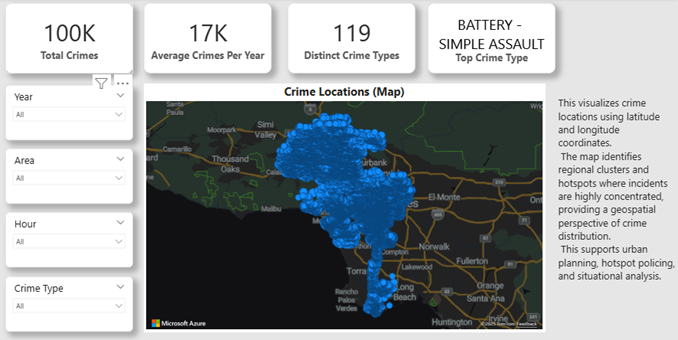

This screenshot's page, from the dashboard's own definition file:
{"tool":"powerbi","page":{"name":"Geographic Crime Map","canvas":[1280,720],"ordinal":4},"visuals":[{"type":"slicer","fields":{"Values":["cleaned_crime_data.Occ_Year"]},"box":[13.8,162.6,240.4,103.8],"z":0},{"type":"slicer","fields":{"Values":["cleaned_crime_data.AREA NAME"]},"box":[13.8,282.5,240.4,103.8],"z":1000},{"type":"slicer","fields":{"Values":["cleaned_crime_data.Crm Cd Desc"]},"box":[13.8,522.4,240.4,103.8],"z":2000},{"type":"slicer","fields":{"Values":["cleaned_crime_data.Hour"]},"box":[13.8,402.5,240.4,103.8],"z":3000},{"type":"card","fields":{"Values":["cleaned_crime_data.Total Crimes"]},"box":[14.4,8.6,240.5,132.5],"z":4000},{"type":"card","fields":{"Values":["cleaned_crime_data.Average Crimes Per Year"]},"box":[275,8.6,240.5,132.5],"z":5000},{"type":"card","fields":{"Values":["cleaned_crime_data.Top Crime Type"]},"box":[809.3,8.6,240.5,132.5],"z":6000},{"type":"card","fields":{"Values":["cleaned_crime_data.Distinct Crime Types"]},"box":[545.8,8.6,240.5,132.5],"z":7000},{"type":"azureMap","title":"Crime Locations (Map)","fields":{"Y":["cleaned_crime_data.LAT"],"X":["cleaned_crime_data.LON"],"Size":["cleaned_crime_data.Total Crimes"]},"box":[275,159.8,754.6,466.6],"z":8000},{"type":"textbox","box":[1049.6,178.6,230.4,445],"z":9000}]}

Visuals, with their boxes on the page's 1280x720 design canvas (x1, y1, x2, y2). These are canvas units, not pixel positions in the 678x340 screenshot, which may show the page scaled, cropped or inside an application window:
slicer - cleaned_crime_data.Occ_Year: (14, 163, 254, 266)
slicer - cleaned_crime_data.AREA NAME: (14, 282, 254, 386)
slicer - cleaned_crime_data.Crm Cd Desc: (14, 522, 254, 626)
slicer - cleaned_crime_data.Hour: (14, 402, 254, 506)
card - cleaned_crime_data.Total Crimes: (14, 9, 255, 141)
card - cleaned_crime_data.Average Crimes Per Year: (275, 9, 516, 141)
card - cleaned_crime_data.Top Crime Type: (809, 9, 1050, 141)
card - cleaned_crime_data.Distinct Crime Types: (546, 9, 786, 141)
"Crime Locations (Map)" azureMap: (275, 160, 1030, 626)
textbox: (1050, 179, 1280, 624)
